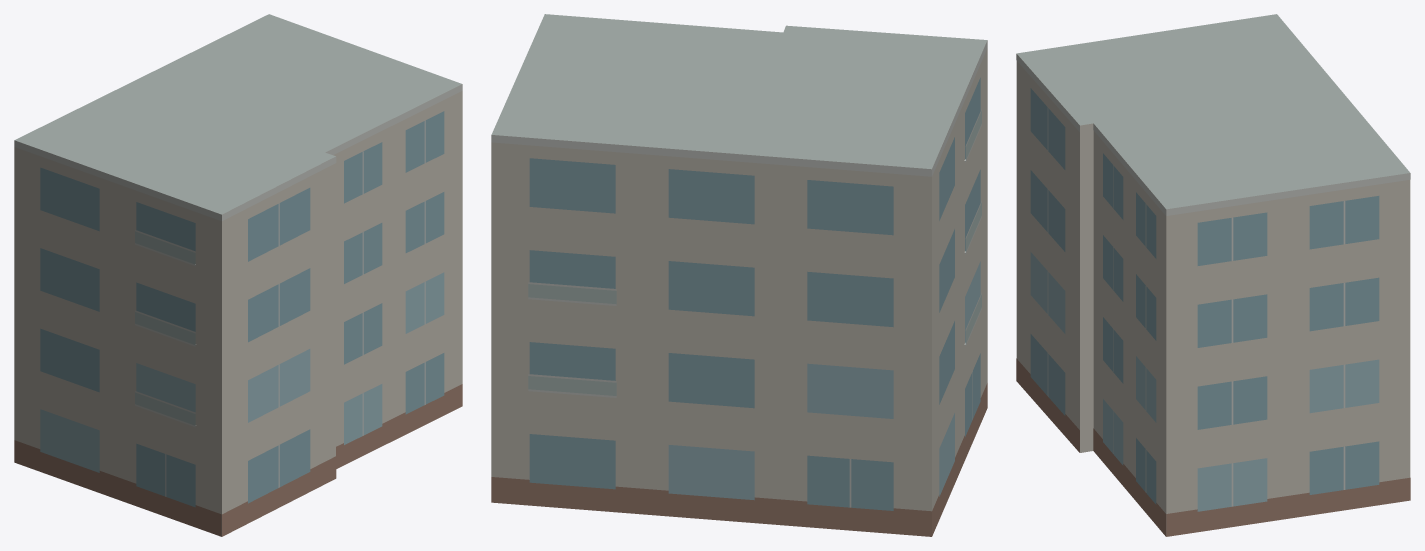
The model's file is survey-upis-32865214.glb.
3 renders of one model, left to right at view 1: azimuth 30°, elevation 25°; view 2: azimuth 150°, elevation 25°; view 3: azimuth 270°, elevation 25°, orthographic. The views are drawn at different scales.
Parts seen in each view (by area): view 1: survey-upis-32865214.tmp; view 2: survey-upis-32865214.tmp; view 3: survey-upis-32865214.tmp.
Boxes of the visible parts, x1,y1,x2,y2 form: survey-upis-32865214.tmp: (14, 14, 462, 536); survey-upis-32865214.tmp: (491, 14, 987, 536); survey-upis-32865214.tmp: (1016, 14, 1410, 536).
Size of the model in its own units: 15.1 by 11.8 by 12.88.
